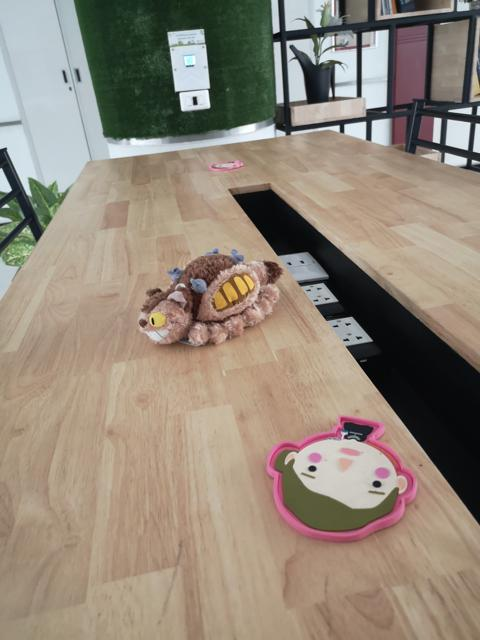nekobus: (137, 244, 284, 350)
